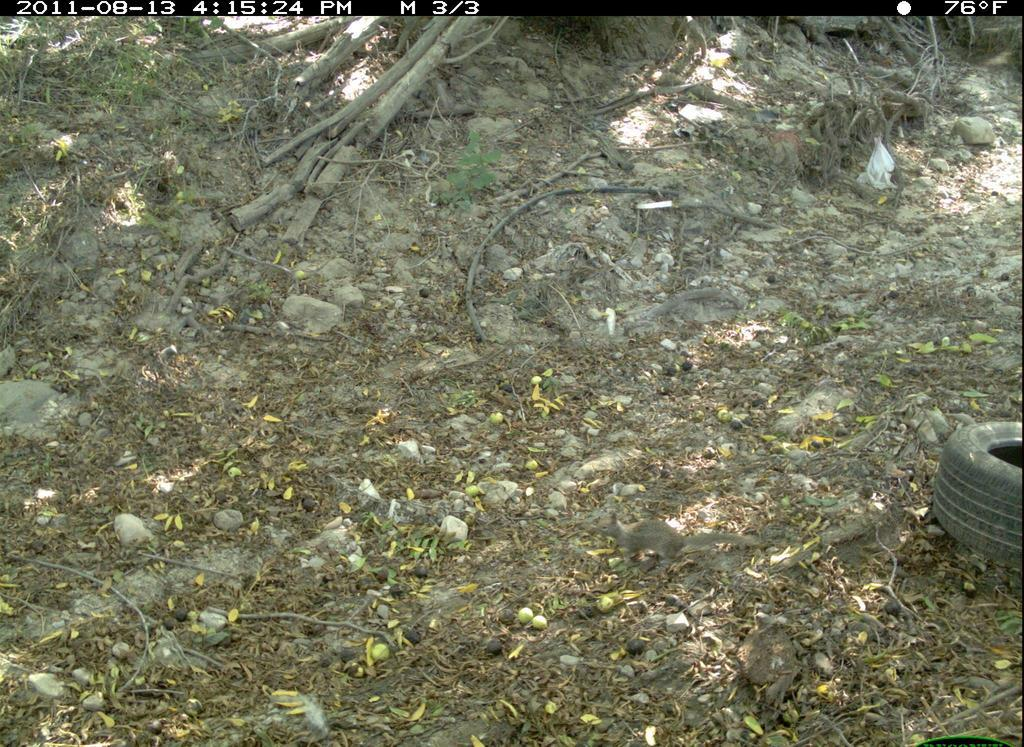squirrel: (575, 498, 774, 609)
